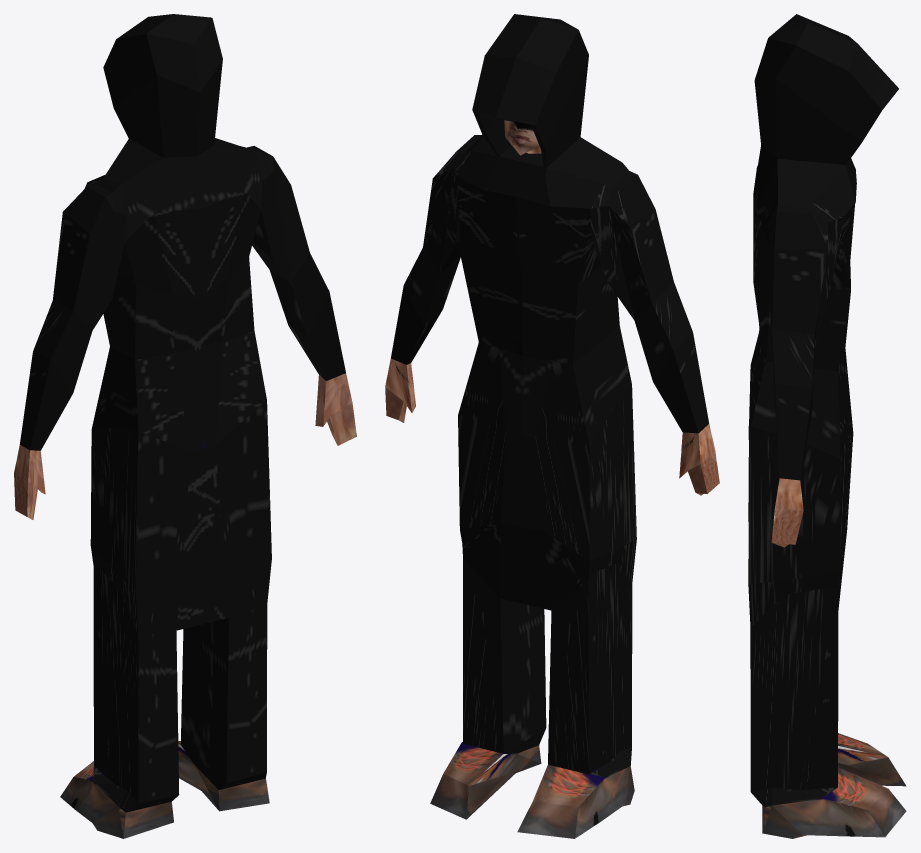
The model's file is aomua.fbx.
3 views of the same model, side by side, from view 1: azimuth 30°, elevation 25°; view 2: azimuth 150°, elevation 25°; view 3: azimuth 270°, elevation 25° (orthographic). The views are drawn at different scales.
Visible parts, largest first — view 1: aomua; view 2: aomua, Face.001; view 3: aomua.
Part boxes in pixels (x1,y1,x2,y2): aomua: (14,14,356,838); aomua: (385,14,719,838); Face.001: (504,120,541,155); aomua: (748,14,906,838).
Size of the model in its own units: 109 by 250 by 45.93.
Materials: 2 (2 with a texture image).
